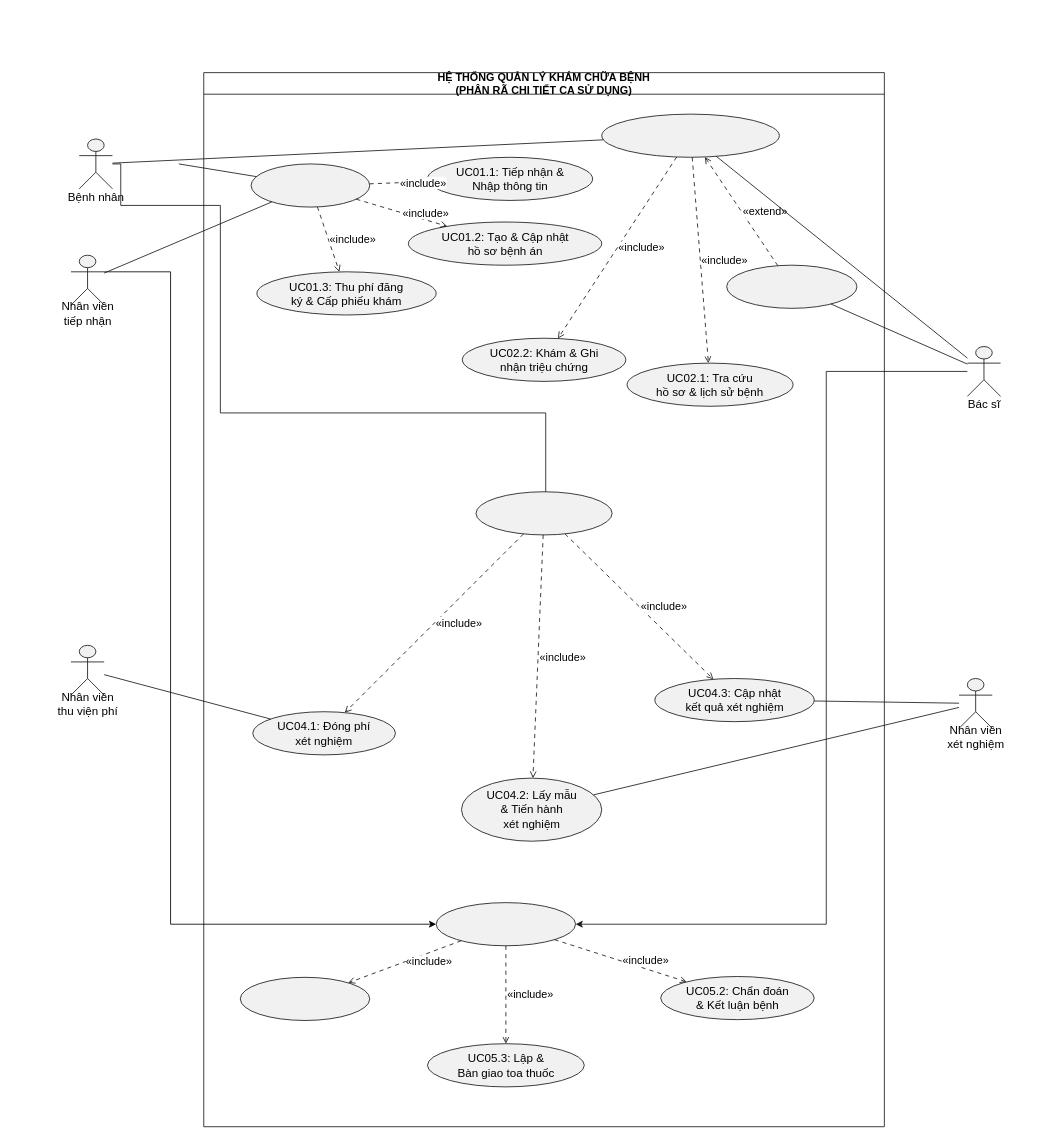
This 1059x1141 diagram has some shape labels left out. The box of each missing label's shape, as (x1, y1, x2, y2) in pixels:
UC01: Đăng ký khám bệnh: (250, 163, 370, 207)
UC02: Khám lâm sàng & Chẩn đoán ban đầu: (601, 113, 779, 157)
UC03: Chỉ định xét nghiệm: (726, 264, 857, 308)
UC04: Thực hiện xét nghiệm: (475, 491, 612, 535)
UC05.1: Đọc kết quả xét nghiệm: (239, 976, 370, 1020)
UC05: Chẩn đoán & Lập toa thuốc: (435, 902, 576, 946)
